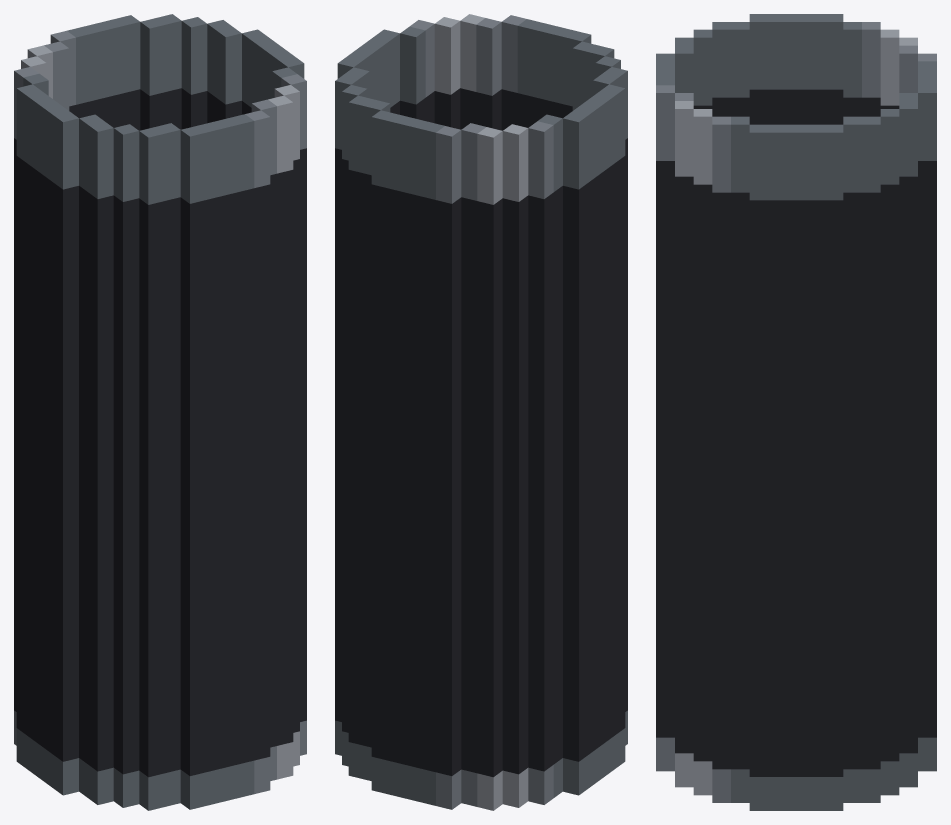
The model's file is umbrella bin.obj.
3 renders of one model, left to right at view 1: azimuth 30°, elevation 25°; view 2: azimuth 150°, elevation 25°; view 3: azimuth 270°, elevation 25°, orthographic.
Bounding box in the file's own units: 1.5 × 4 × 1.5.
1 material, 1 textured.
